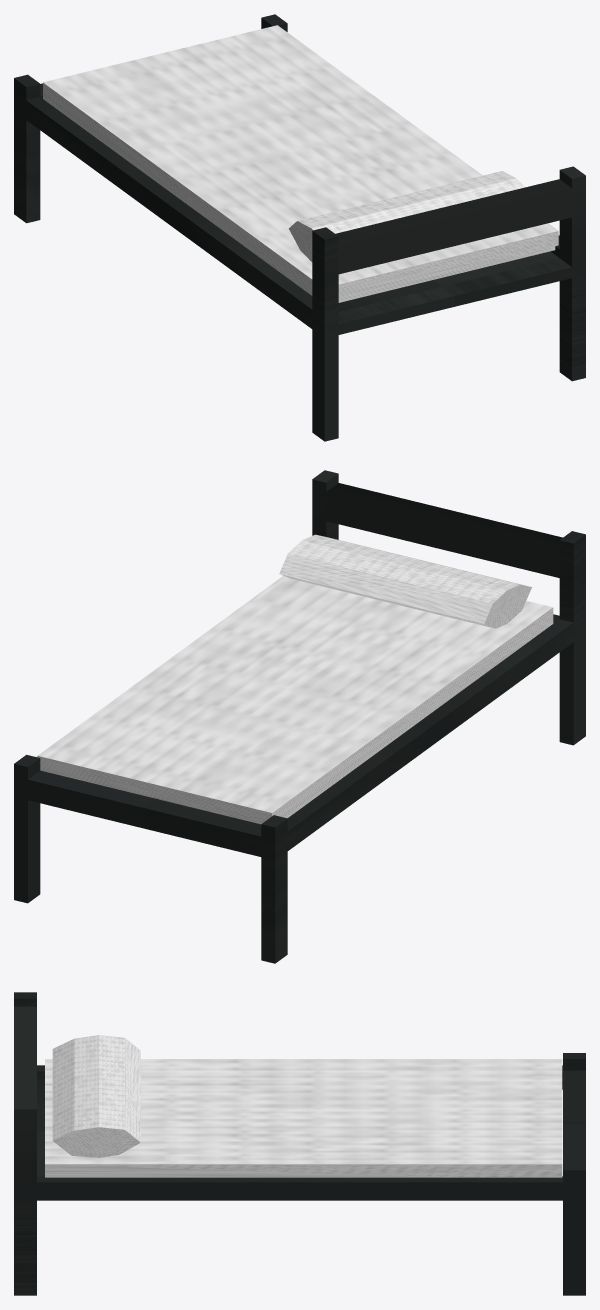
File: bed.fbx
The picture shows the model from 3 angles, top to bottom: view 1: azimuth 30°, elevation 25°; view 2: azimuth 150°, elevation 25°; view 3: azimuth 270°, elevation 25°; orthographic projection. The views are drawn at different scales.
Visible parts, largest first — view 1: colchon, cama, almohada; view 2: colchon, cama, almohada; view 3: colchon, cama, almohada.
Part boxes in pixels (x1,y1,x2,y2): colchon: (43,25,558,302); cama: (14,14,585,441); almohada: (288,171,524,261); colchon: (37,576,553,824); cama: (14,470,585,963); almohada: (279,534,531,628); colchon: (45,1059,562,1177); cama: (14,992,585,1295); almohada: (52,1035,140,1157).
Bounding box in the file's own units: 140 × 104 × 289.
Materials: 3 (3 with a texture image).
